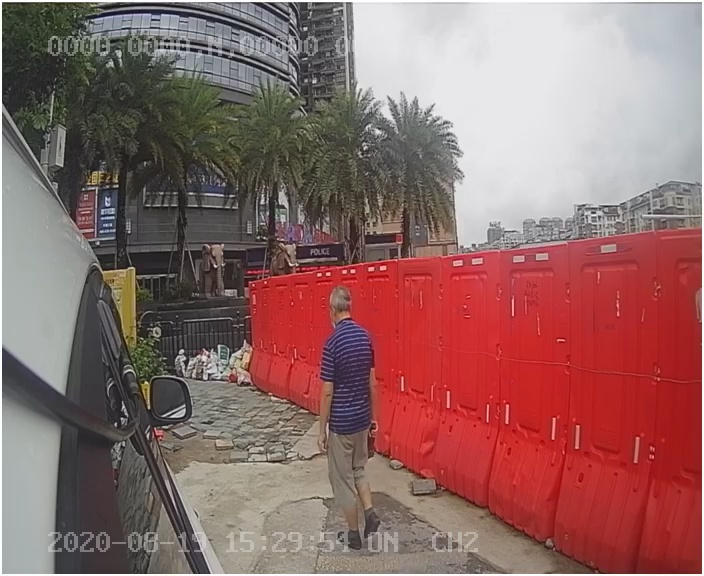person: (292, 285, 409, 539)
